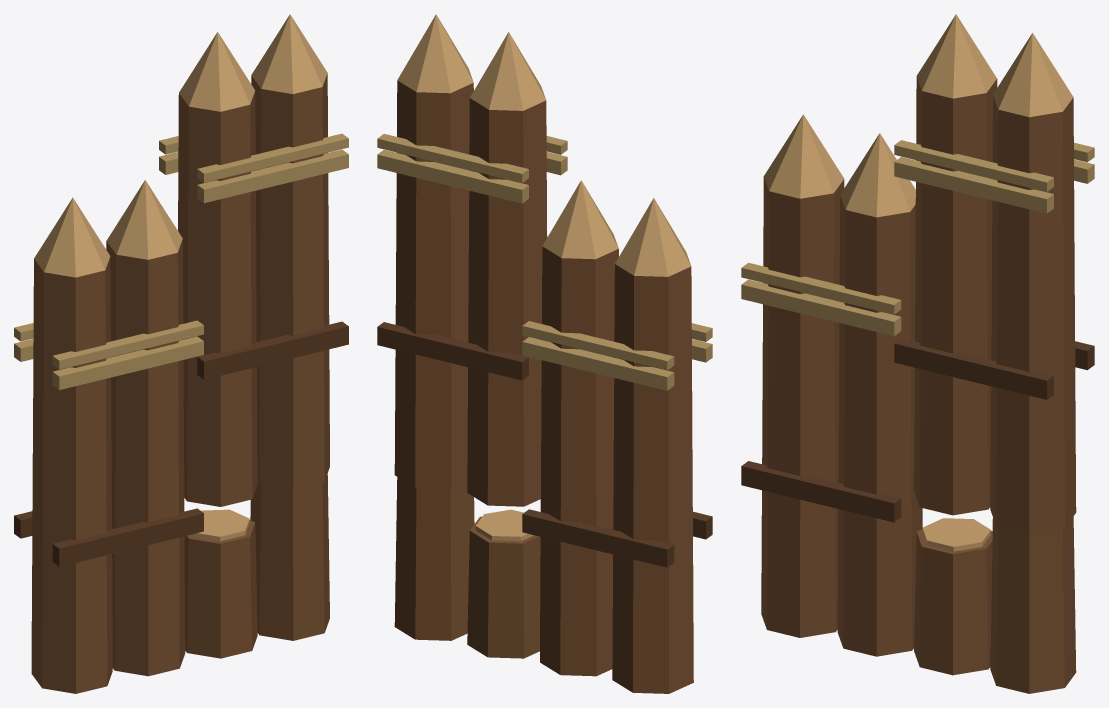
The model's file is palisade_step.glb.
3 renders of one model, left to right at view 1: azimuth 30°, elevation 25°; view 2: azimuth 150°, elevation 25°; view 3: azimuth 330°, elevation 25°, orthographic. The views are drawn at different scales.
Visible parts, largest first — view 1: wall_palisade_step; view 2: wall_palisade_step; view 3: wall_palisade_step.
Boxes of the visible parts, x1,y1,x2,y2 form: wall_palisade_step: (14,14,348,693); wall_palisade_step: (377,14,712,693); wall_palisade_step: (741,14,1094,693).
Size of the model in its own units: 2 by 4.02 by 0.54.
